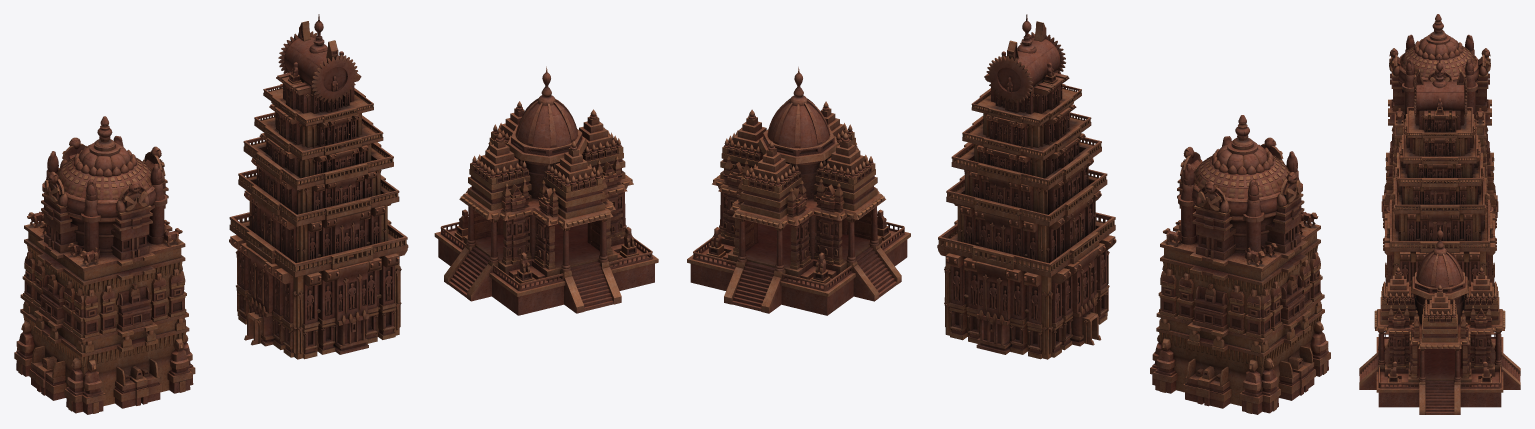
The model's file is temples.fbx.
The picture shows the model from 3 angles, left to right: view 1: azimuth 30°, elevation 25°; view 2: azimuth 150°, elevation 25°; view 3: azimuth 270°, elevation 25°; orthographic projection. The views are drawn at different scales.
Parts seen in each view (by area): view 1: Cube.303, Cube.051, Plane.017; view 2: Cube.303, Cube.051, Plane.017; view 3: Plane.017, Cube.303, Cube.051.
Part boxes in pixels (x1,y1,x2,y2): Cube.303: (229,14,408,359); Cube.051: (14,116,195,414); Plane.017: (434,66,658,315); Cube.303: (937,14,1116,359); Cube.051: (1150,115,1330,414); Plane.017: (687,67,910,315); Plane.017: (1359,226,1520,414); Cube.303: (1383,57,1496,286); Cube.051: (1381,14,1498,217).
Size of the model in its own units: 4857 by 2425 by 1479.
